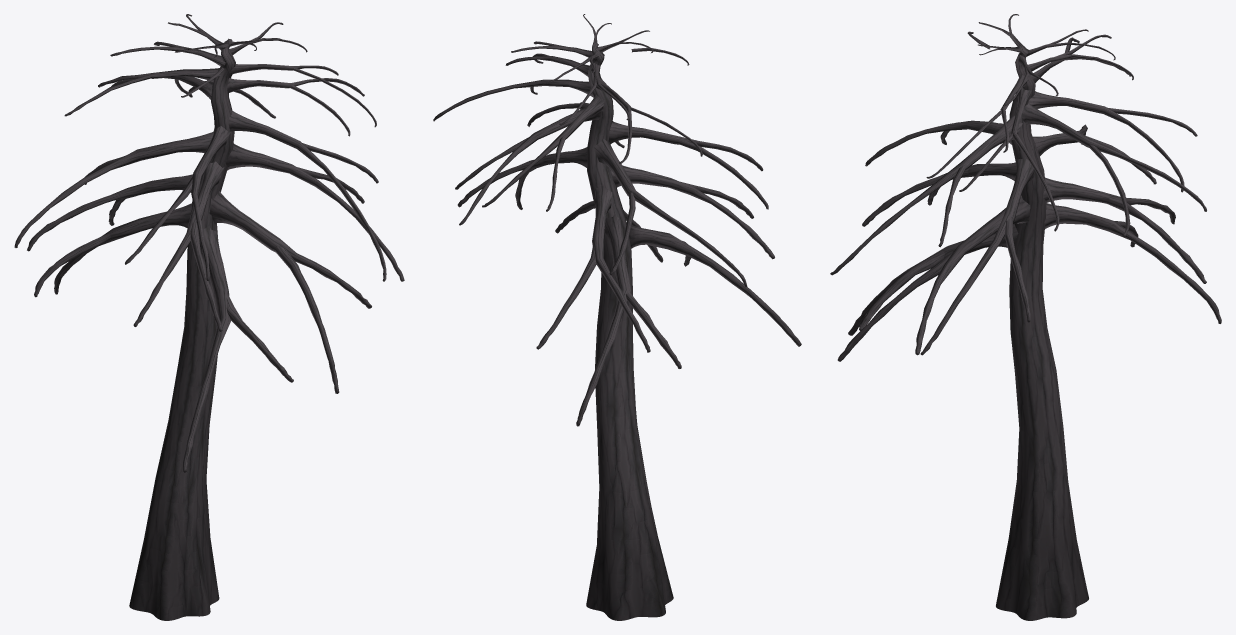
Rendered from prop_snm_dead_tree.glb.
3 views of the same model, side by side, from view 1: azimuth 30°, elevation 25°; view 2: azimuth 150°, elevation 25°; view 3: azimuth 270°, elevation 25° (orthographic). The views are drawn at different scales.
Parts seen in each view (by area): view 1: DeadTree_4; view 2: DeadTree_4; view 3: DeadTree_4.
Part boxes in pixels (x1,y1,x2,y2): DeadTree_4: (14, 14, 404, 620); DeadTree_4: (433, 14, 801, 620); DeadTree_4: (830, 14, 1221, 620).
Bounding box in the file's own units: 7.96 × 12.77 × 7.73.
1 material, 1 textured.
